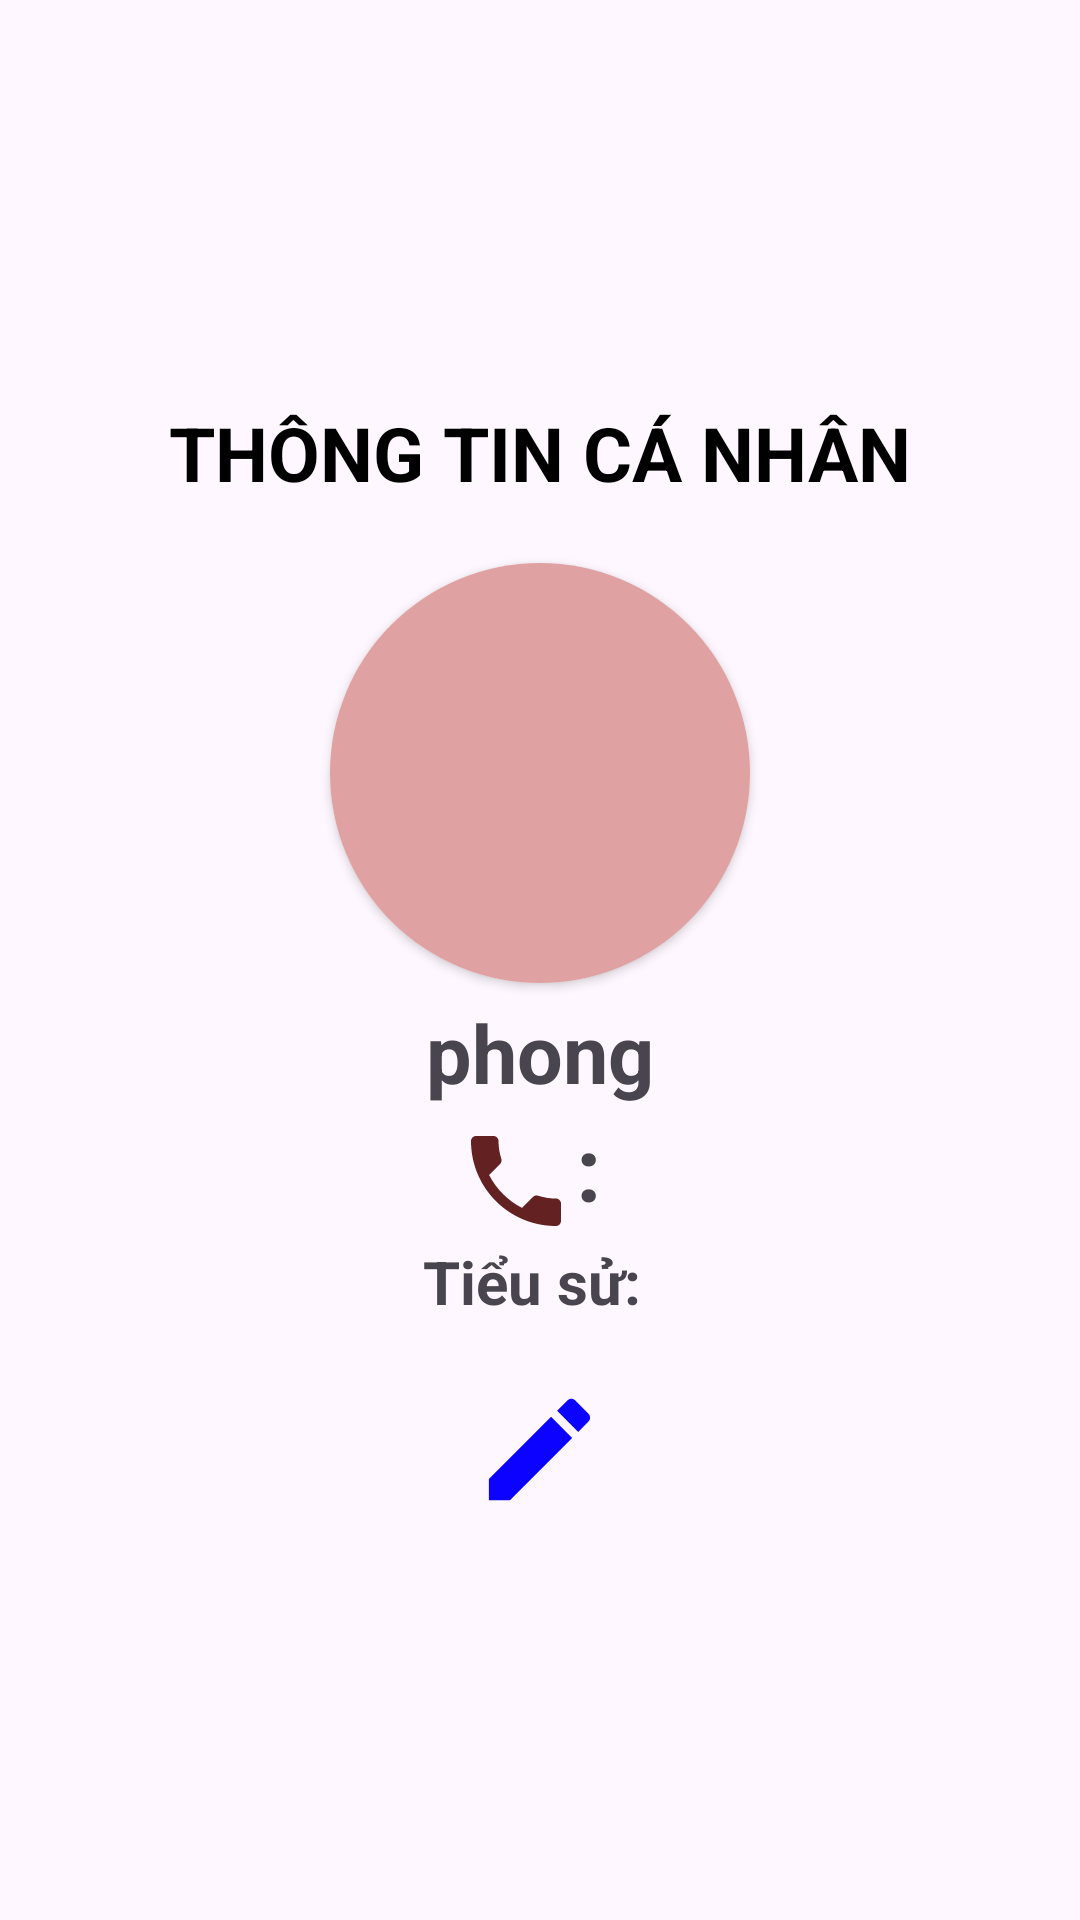

Point at icon controls on the screen. Image size 1080w x 1920h, points as (x,y).
icedit: (539,1449)
icphone: (516,1181)
